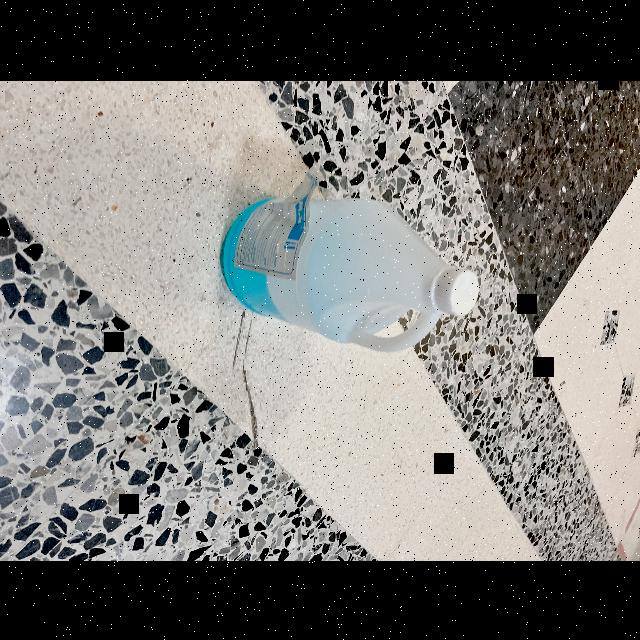chemical_plastic_gallon: (217, 164, 488, 378)
